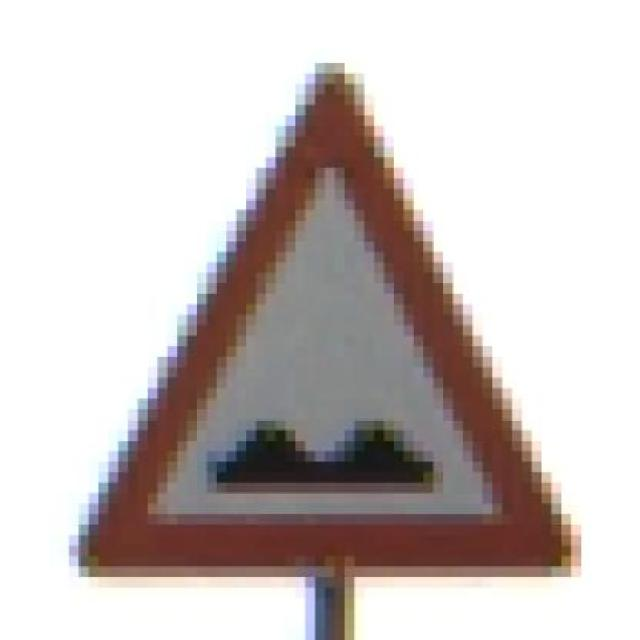Uneven Road: (66, 41, 579, 588)
